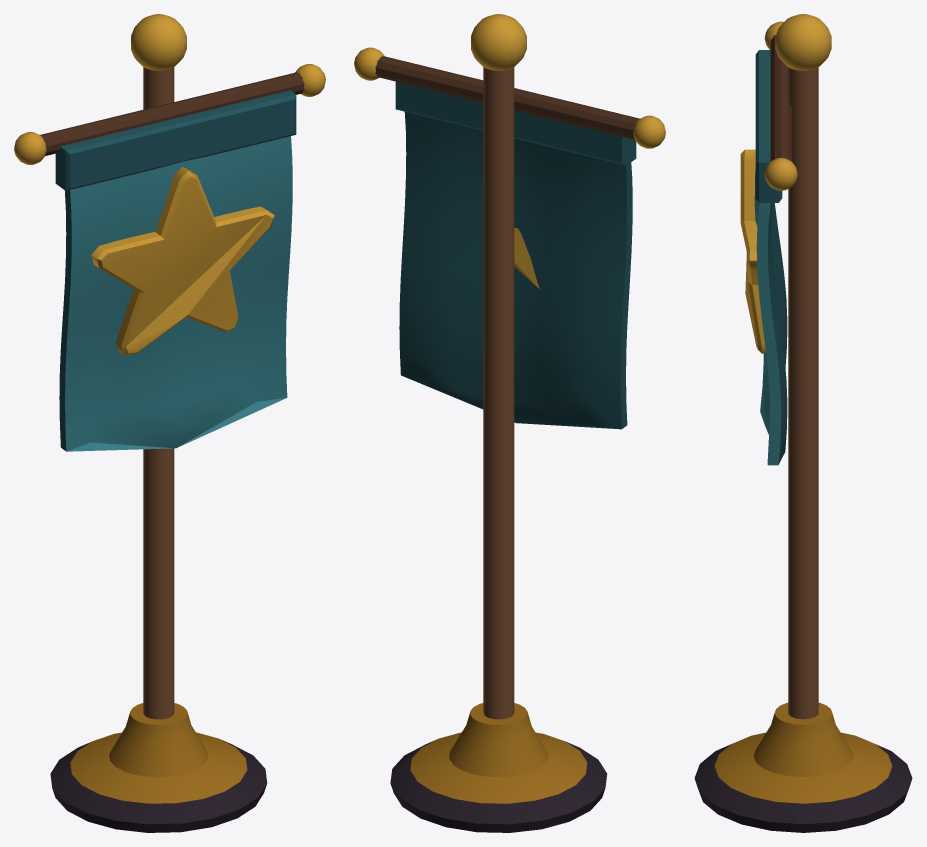
File: Banner_16.glb
3 renders of one model, left to right at view 1: azimuth 30°, elevation 25°; view 2: azimuth 150°, elevation 25°; view 3: azimuth 270°, elevation 25°, orthographic.
Visible parts, largest first — view 1: Banner_16; view 2: Banner_16; view 3: Banner_16.
Part boxes in pixels (x1,y1,x2,y2): Banner_16: [14, 14, 325, 832]; Banner_16: [354, 14, 665, 832]; Banner_16: [694, 14, 912, 832].
Bounding box in the file's own units: 3.19 × 7.65 × 1.96.
